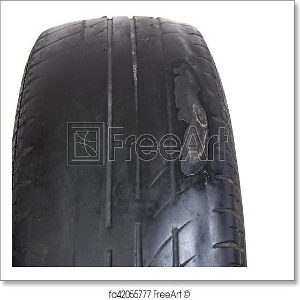tire: (13, 13, 250, 266)
